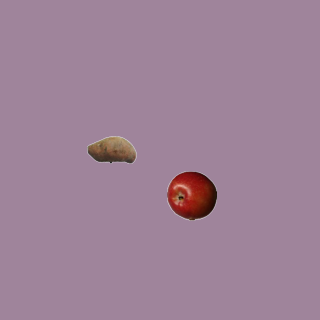Apple Braeburn: (166, 170, 216, 220)
Potato Sweet: (86, 124, 136, 174)
